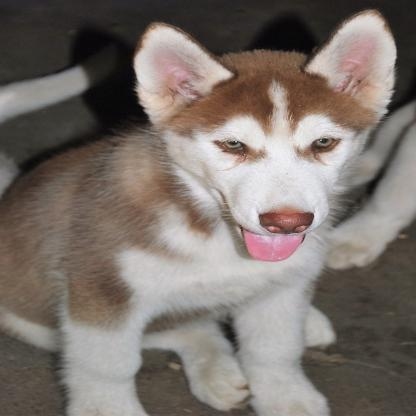husky: (0, 11, 402, 416)
